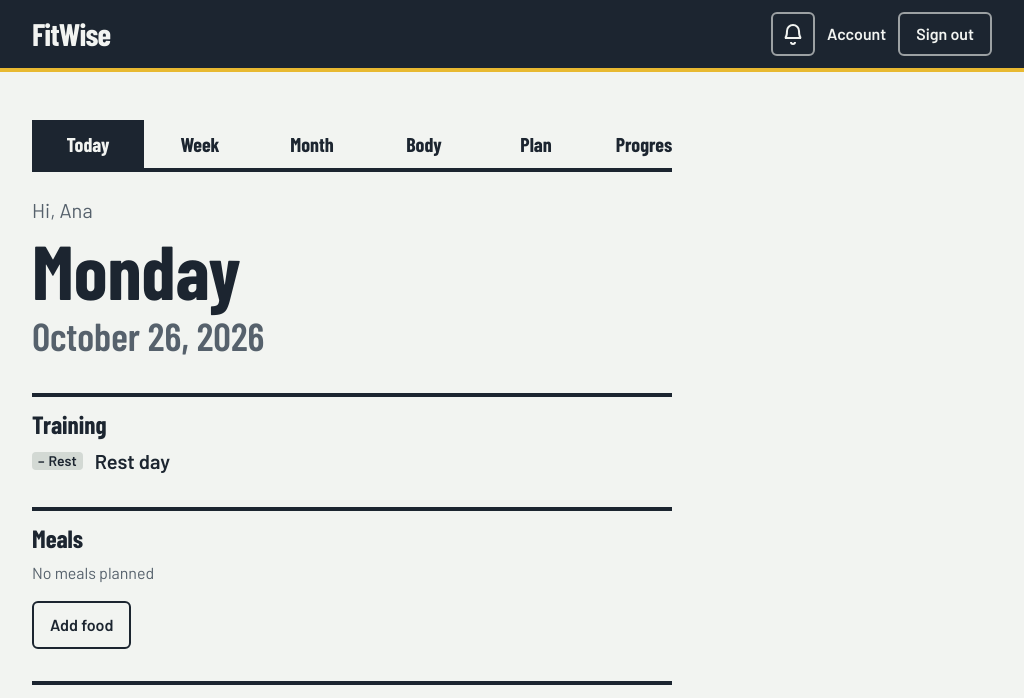
Test: views are reachable › switches between Today, Week and Month with the tab links
Click the link "Week" at (200, 144), box left=180, top=132, right=220, bottom=156
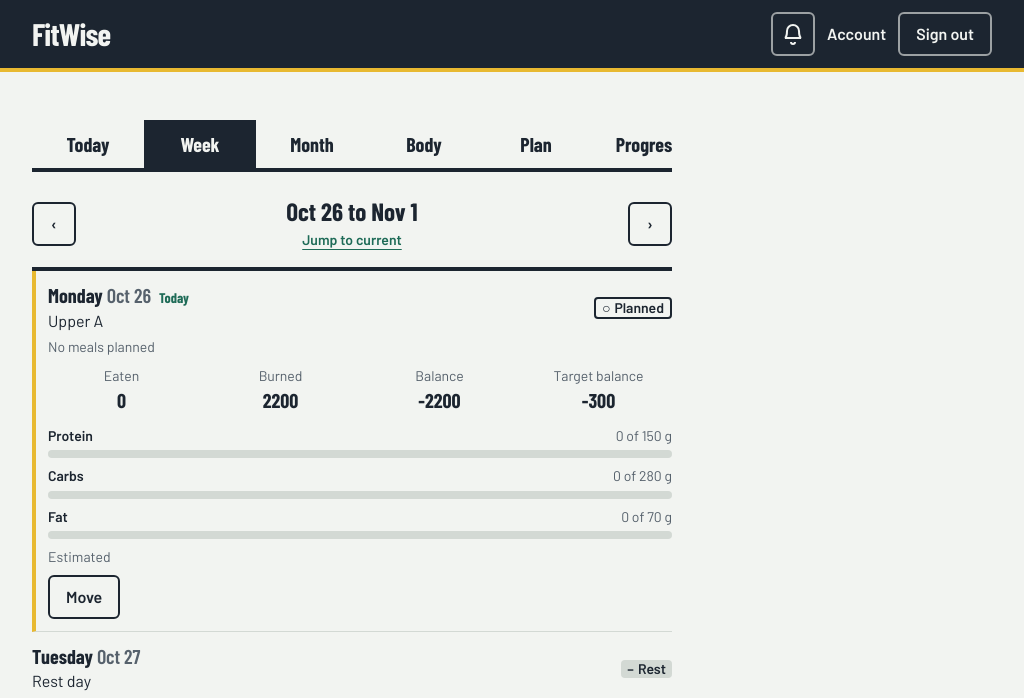
Click the link "Month" at (312, 144), box left=290, top=132, right=334, bottom=156
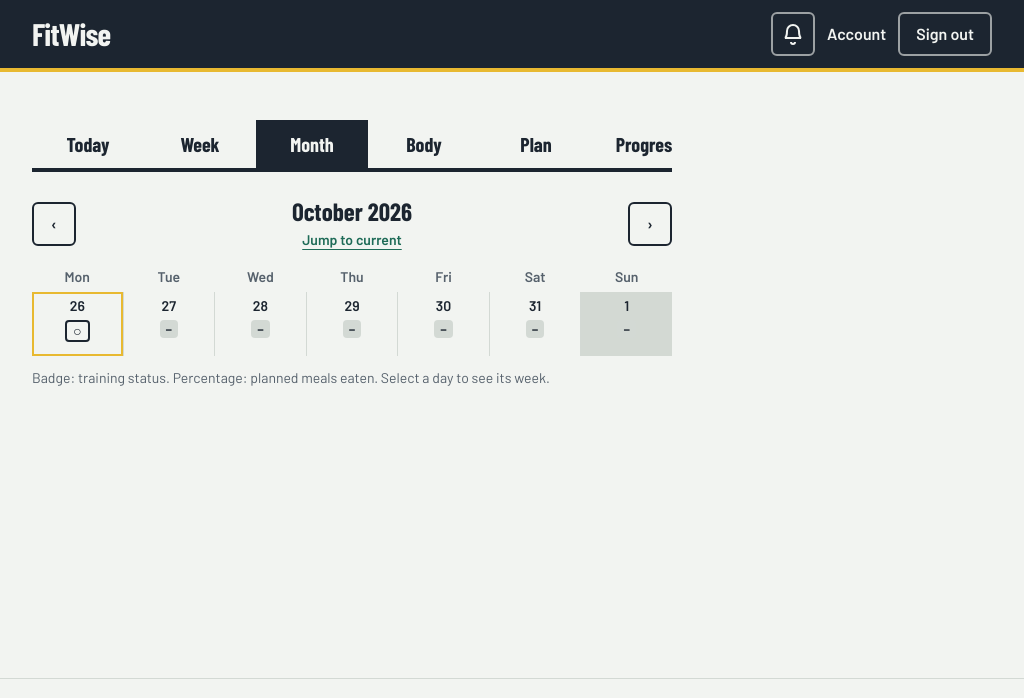
Result: the list named "Days of the month" is shown at left=32, top=292, right=672, bottom=356
